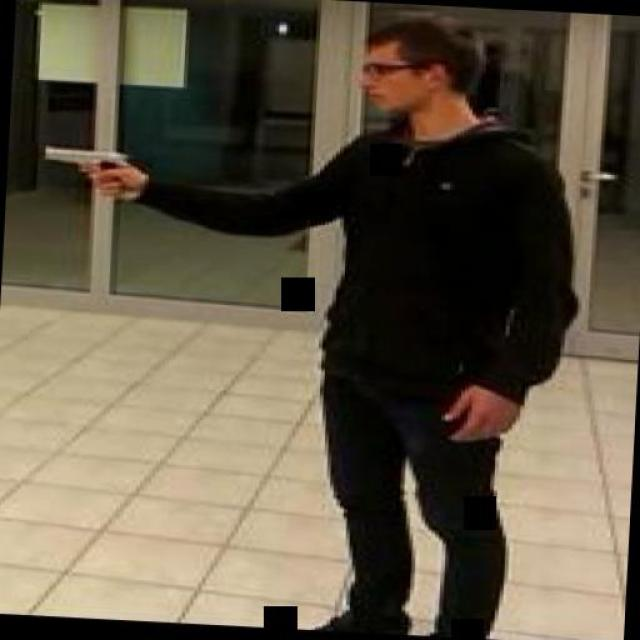gun: (32, 140, 132, 200)
